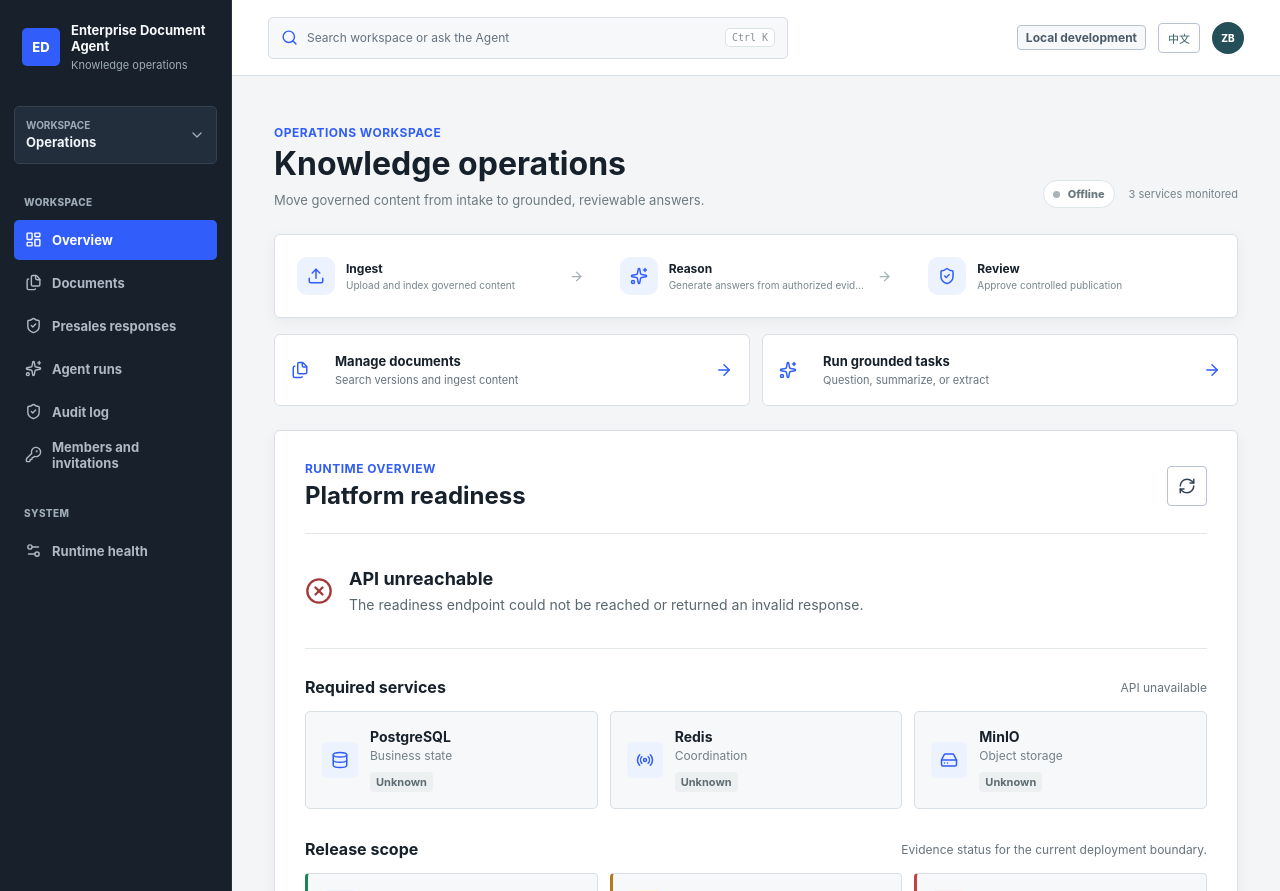
Scenario: App readiness dashboard › manually refreshes after a failure
The width and height of the screenshot is (1280, 891).
Expected: the heading "API unreachable" is shown, x1=349 y1=568 x2=493 y2=588
Click the button named "Refresh readiness".
click(1187, 486)  # box x1=1167 y1=466 x2=1207 y2=506
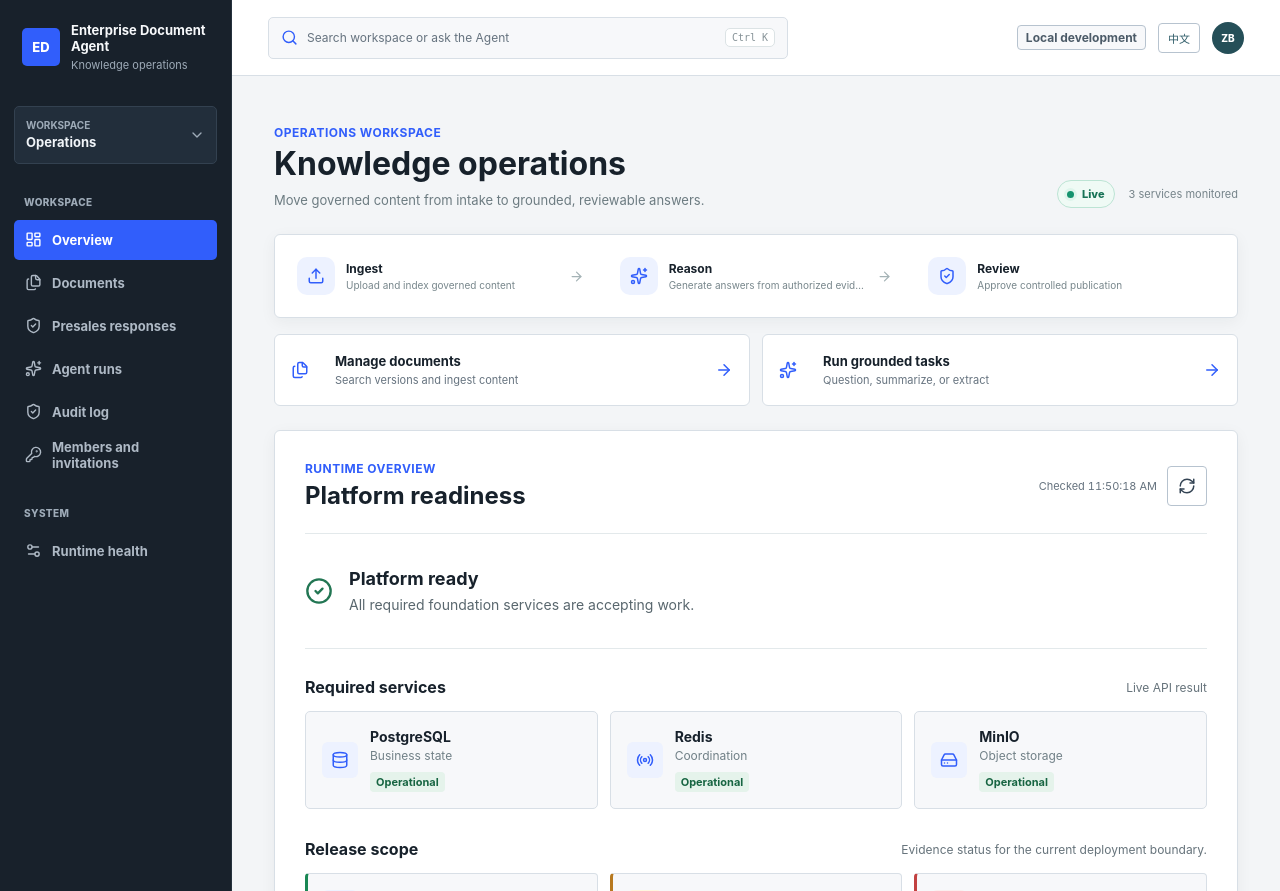
Expected: the heading "Platform ready" is shown, x1=349 y1=568 x2=479 y2=588
